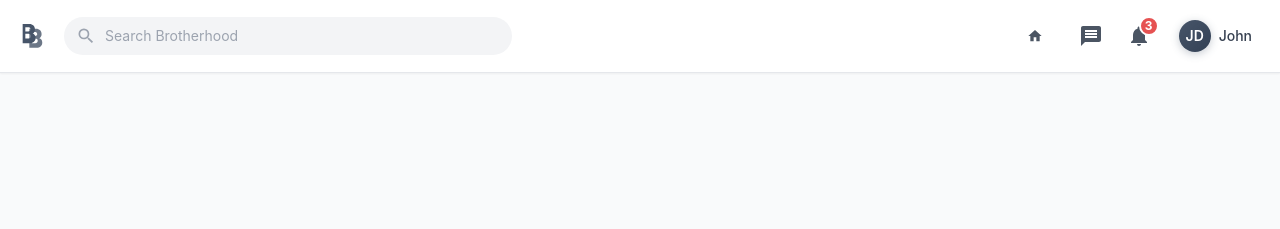
Test: Header Component › should toggle profile menu
This screenshot has width=1280, height=229.
Click the button with aria-label "user menu": [1215, 36] box [1167,12,1264,60]
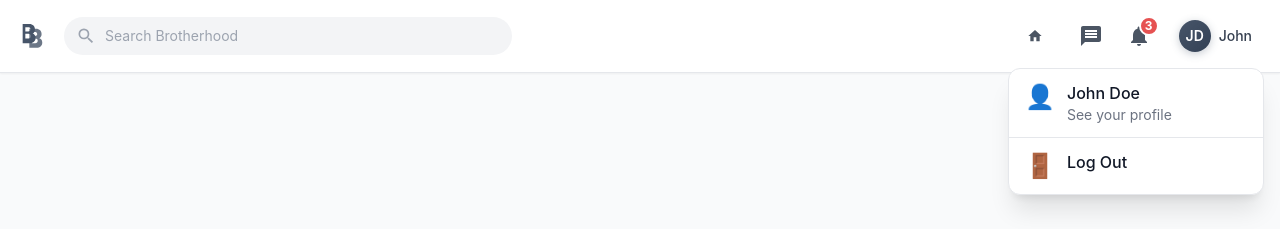
Now the text "Log Out" is shown, box [1067,150,1127,174]
Click the button with aria-label "user menu": [1215, 36] box [1167,12,1264,60]
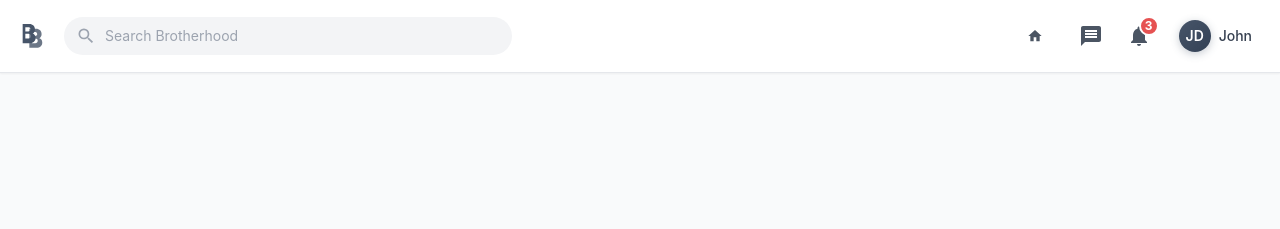
Now the menu item "Log Out" is gone
